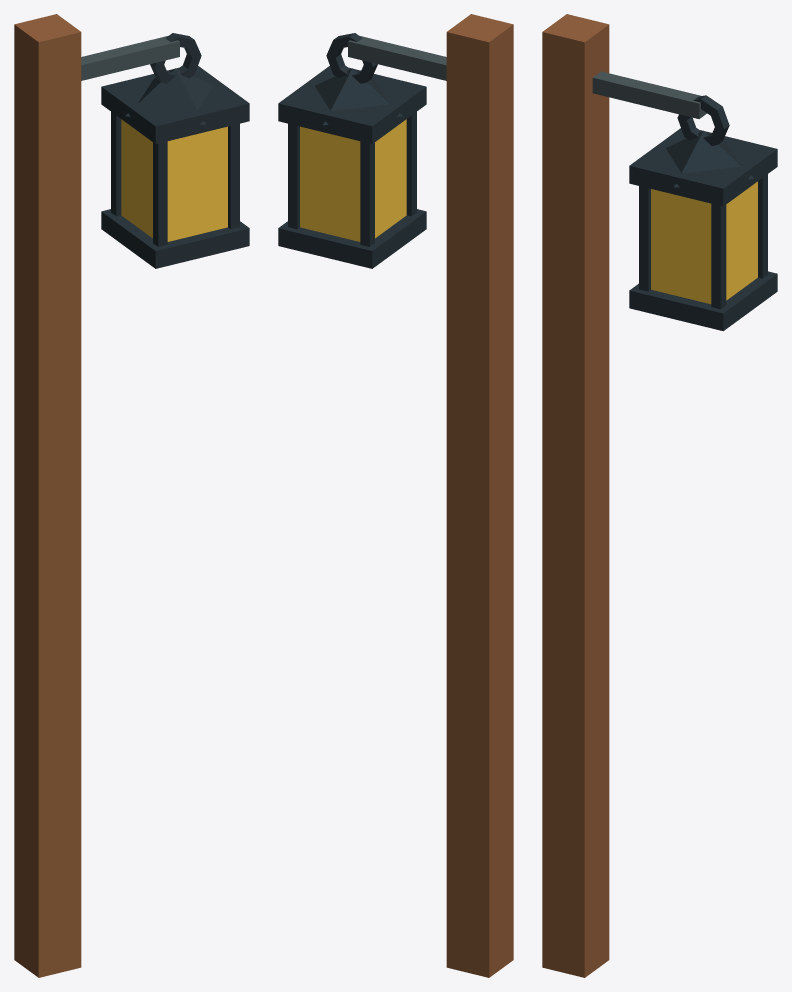
File: fishing_deck__fishing_lamp.glb
3 views of the same model, side by side, from view 1: azimuth 30°, elevation 25°; view 2: azimuth 150°, elevation 25°; view 3: azimuth 330°, elevation 25° (orthographic).
Visible parts, largest first — view 1: fishing_lamp__wood.001, fishing_lamp__dark.001, fishing_lamp__yellow2.001, fishing_lamp__metal.001; view 2: fishing_lamp__wood.001, fishing_lamp__dark.001, fishing_lamp__yellow2.001, fishing_lamp__metal.001; view 3: fishing_lamp__wood.001, fishing_lamp__dark.001, fishing_lamp__yellow2.001, fishing_lamp__metal.001.
Part boxes in pixels (x1=…): fishing_lamp__wood.001: x1=14, y1=14, x2=81, y2=977; fishing_lamp__dark.001: x1=101, y1=33, x2=249, y2=268; fishing_lamp__yellow2.001: x1=121, y1=119, x2=227, y2=241; fishing_lamp__metal.001: x1=81, y1=36, x2=179, y2=80; fishing_lamp__wood.001: x1=446, y1=14, x2=513, y2=977; fishing_lamp__dark.001: x1=278, y1=33, x2=426, y2=268; fishing_lamp__yellow2.001: x1=300, y1=119, x2=406, y2=241; fishing_lamp__metal.001: x1=348, y1=36, x2=446, y2=80; fishing_lamp__wood.001: x1=542, y1=14, x2=609, y2=977; fishing_lamp__dark.001: x1=629, y1=95, x2=777, y2=331; fishing_lamp__yellow2.001: x1=651, y1=181, x2=757, y2=304; fishing_lamp__metal.001: x1=592, y1=71, x2=706, y2=118.
Size of the model in its own units: 0.469 by 2.1 by 0.238.
